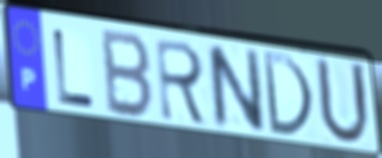B: (100, 26, 155, 123)
D: (259, 49, 316, 141)
L: (51, 26, 97, 111)
N: (203, 43, 267, 135)
R: (153, 36, 210, 129)
U: (313, 54, 373, 149)
